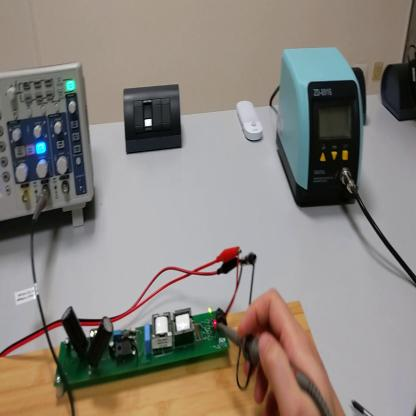hand: (239, 287, 344, 414)
high voltage board: (51, 241, 257, 390)
oscilloscope: (1, 61, 96, 231)
oscilloscope probe tip: (214, 316, 333, 415)
screwdriver-: (353, 401, 374, 416)
socket: (381, 65, 416, 122), (351, 70, 370, 130)
welder station: (278, 44, 365, 210)
working area: (2, 300, 345, 416)
